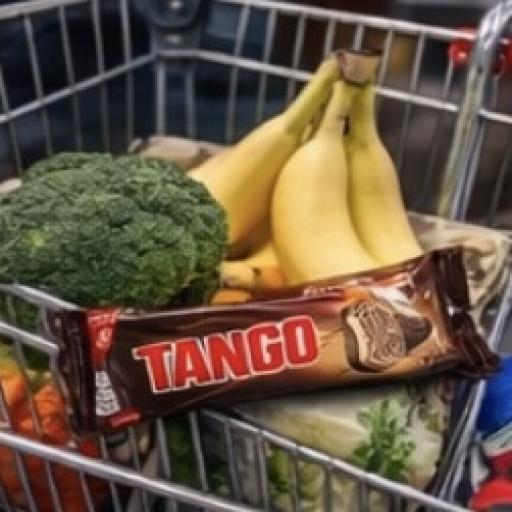tango: (37, 230, 500, 456)
